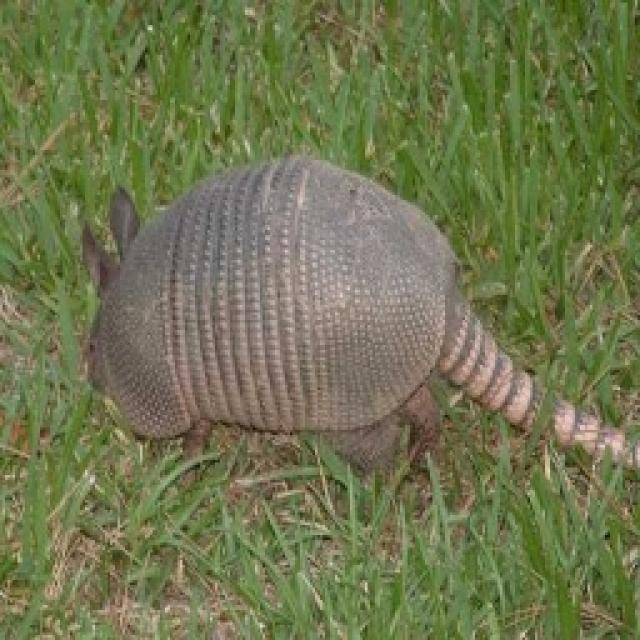not_pig: (78, 150, 638, 488)
